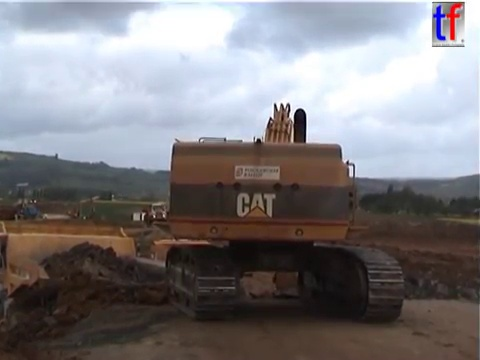excavator: (160, 98, 409, 326)
truck: (1, 219, 206, 358), (148, 236, 246, 311), (130, 202, 169, 224), (1, 203, 22, 221)
